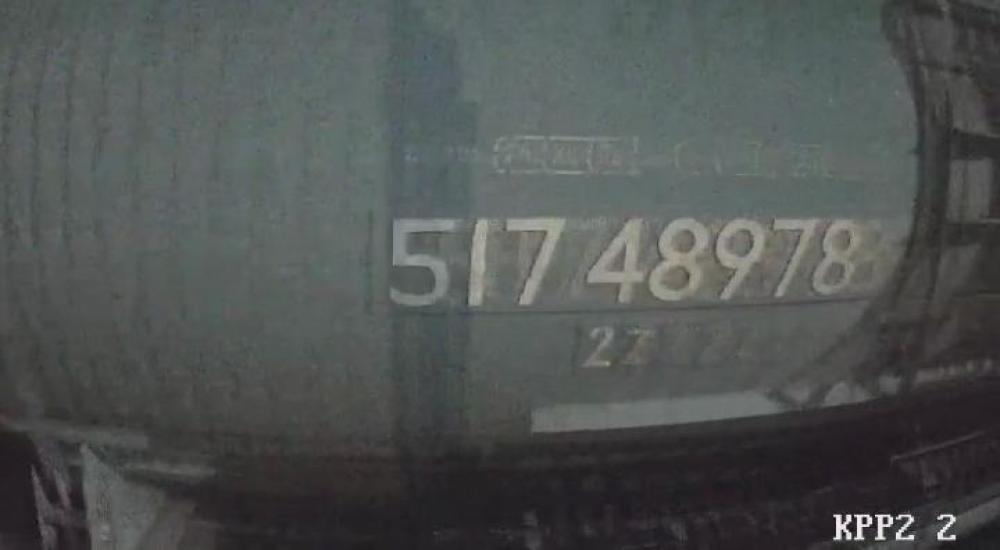Wagon-number: (378, 213, 859, 310)
